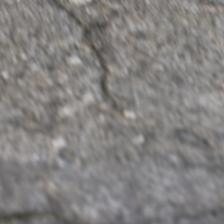Crack: (55, 3, 127, 114)
